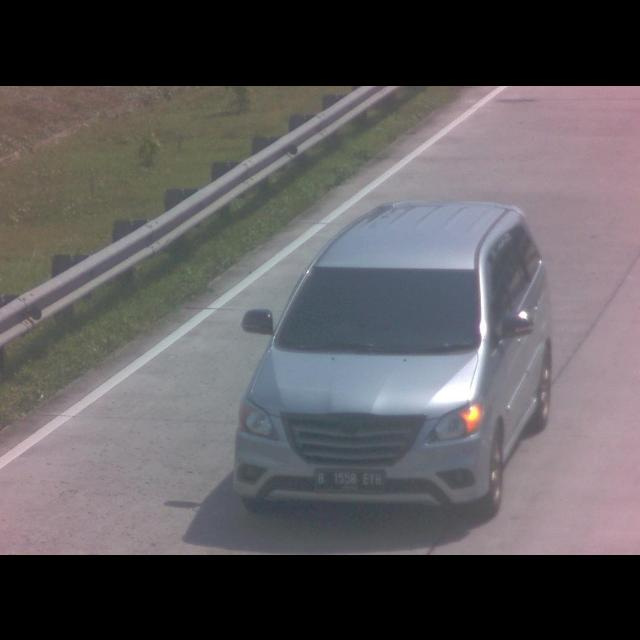plate: (314, 466, 386, 492)
